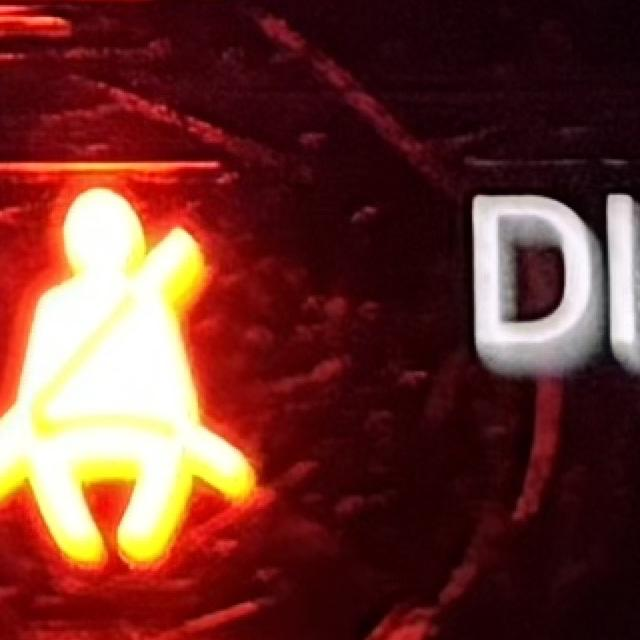Passenger Seatbelt Indicator: (1, 185, 260, 572)
